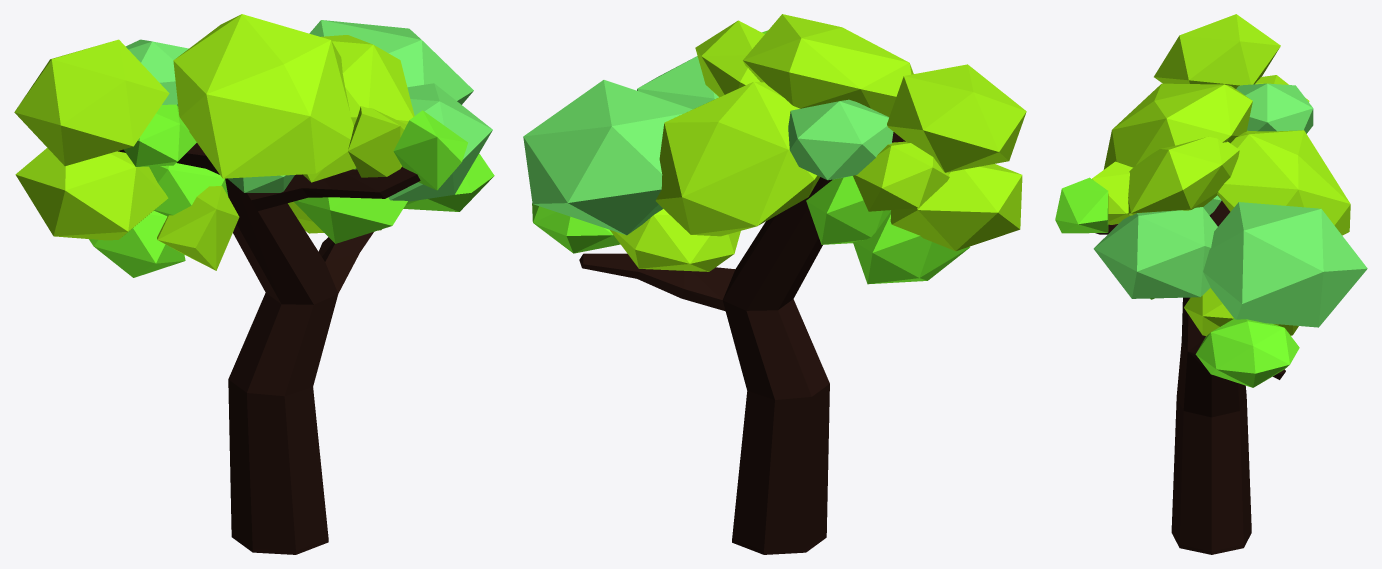
File: 세계수4.fbx
3 renders of one model, left to right at view 1: azimuth 30°, elevation 25°; view 2: azimuth 150°, elevation 25°; view 3: azimuth 270°, elevation 25°, orthographic. The views are drawn at different scales.
Parts seen in each view (by area): view 1: Cylinder002; view 2: Cylinder002; view 3: Cylinder002.
Boxes of the visible parts, x1,y1,x2,y2 form: Cylinder002: [14, 14, 494, 554]; Cylinder002: [523, 14, 1026, 554]; Cylinder002: [1055, 14, 1367, 554].
Bounding box in the file's own units: 721 × 763 × 492.
